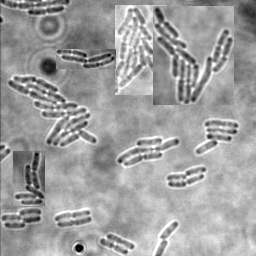Dividing: (167, 175, 204, 189), (99, 238, 128, 255), (54, 209, 90, 222), (56, 217, 92, 228), (27, 7, 64, 17)
Microcolony: (153, 6, 234, 105), (7, 76, 98, 147), (115, 5, 167, 95), (117, 137, 180, 168), (13, 151, 45, 206), (195, 120, 238, 155), (56, 49, 116, 69), (1, 208, 42, 229)
Rod: (106, 233, 135, 251), (157, 222, 178, 240), (184, 167, 206, 177), (166, 174, 187, 183)
